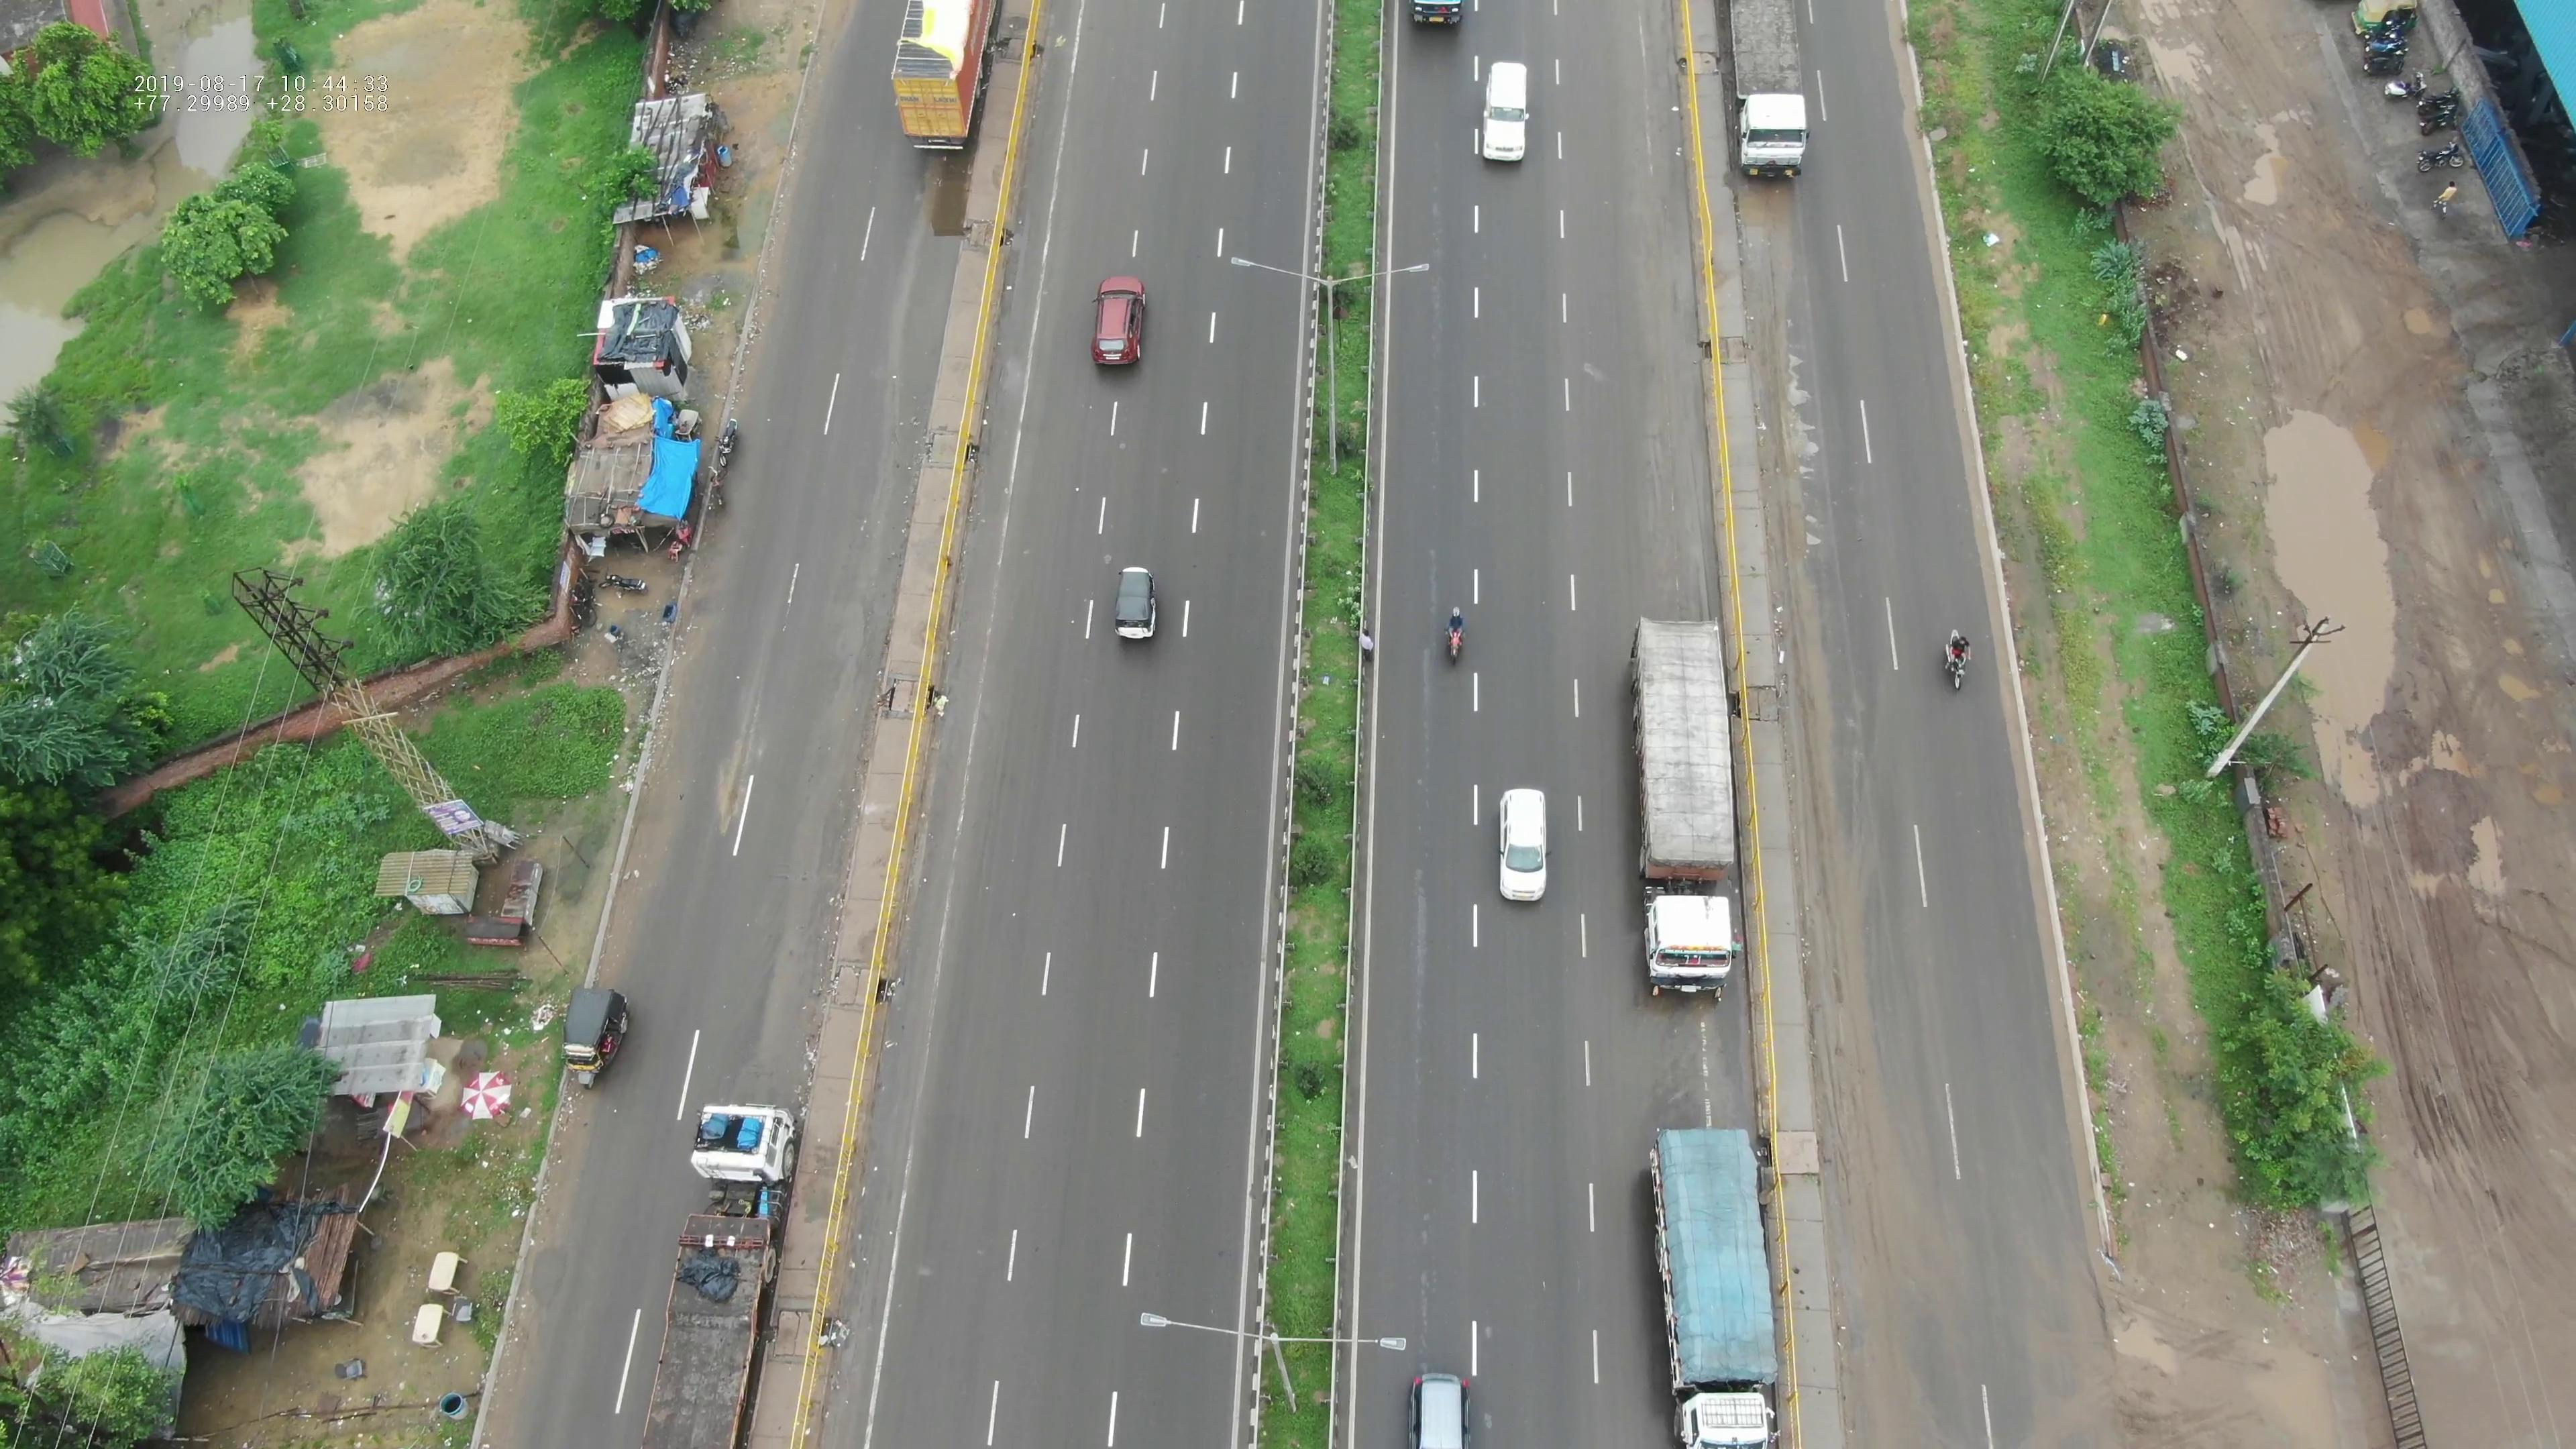Muddy_road: (1790, 879, 1890, 1175)
Waterlogging: (2249, 416, 2404, 780)
